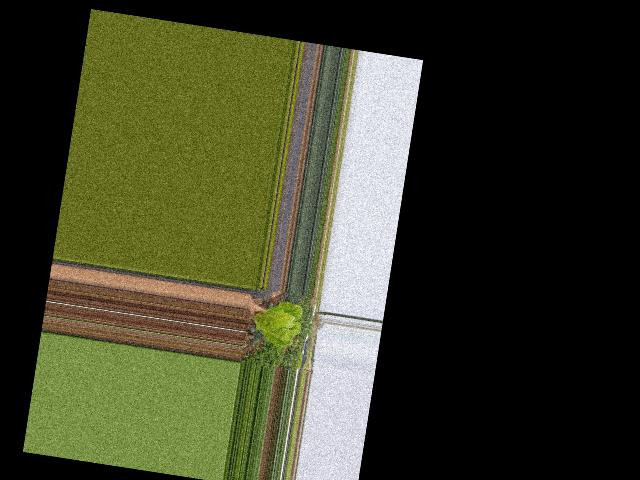lettuce: (246, 294, 305, 351)
